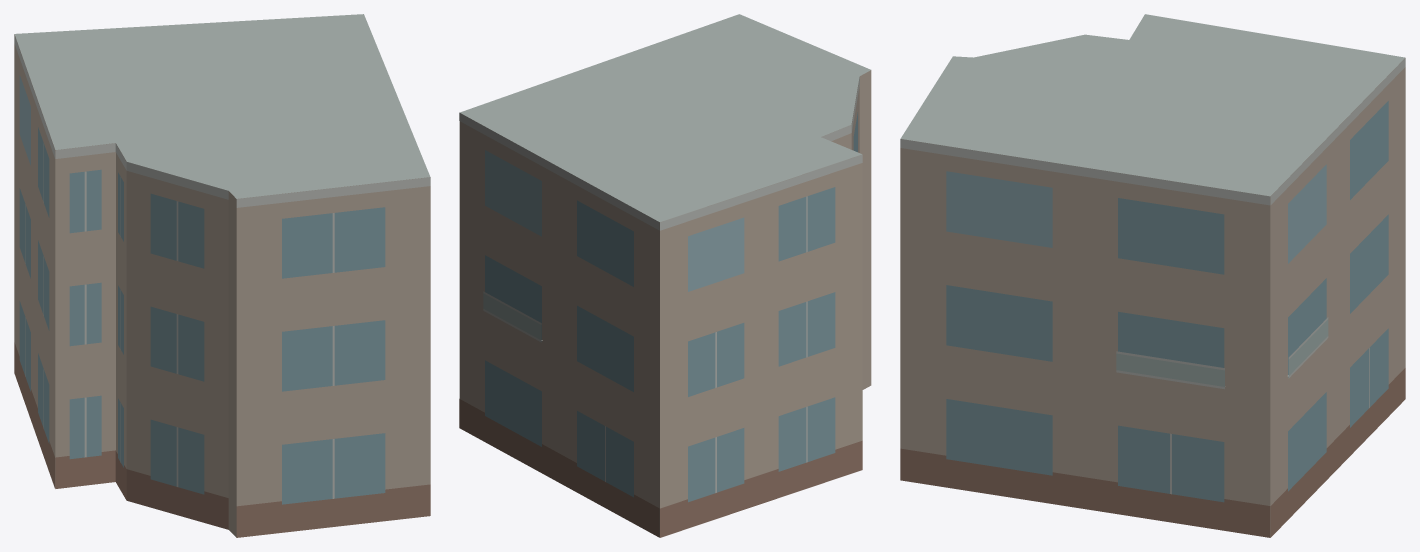
The model's file is survey-upis-32517419.glb.
The picture shows the model from 3 angles, left to right: view 1: azimuth 30°, elevation 25°; view 2: azimuth 150°, elevation 25°; view 3: azimuth 270°, elevation 25°; orthographic projection. The views are drawn at different scales.
Visible parts, largest first — view 1: survey-upis-32517419.tmp; view 2: survey-upis-32517419.tmp; view 3: survey-upis-32517419.tmp.
Boxes of the visible parts, bbox=[...] form: survey-upis-32517419.tmp: bbox=[14, 14, 430, 537]; survey-upis-32517419.tmp: bbox=[459, 14, 871, 537]; survey-upis-32517419.tmp: bbox=[900, 14, 1405, 537].
Bounding box in the file's own units: 10.49 × 9.15 × 12.28.
